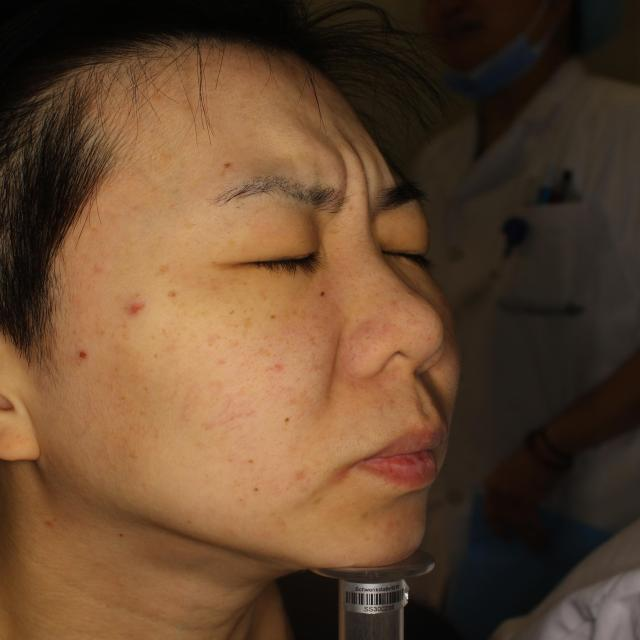acne: (123, 298, 144, 323)
